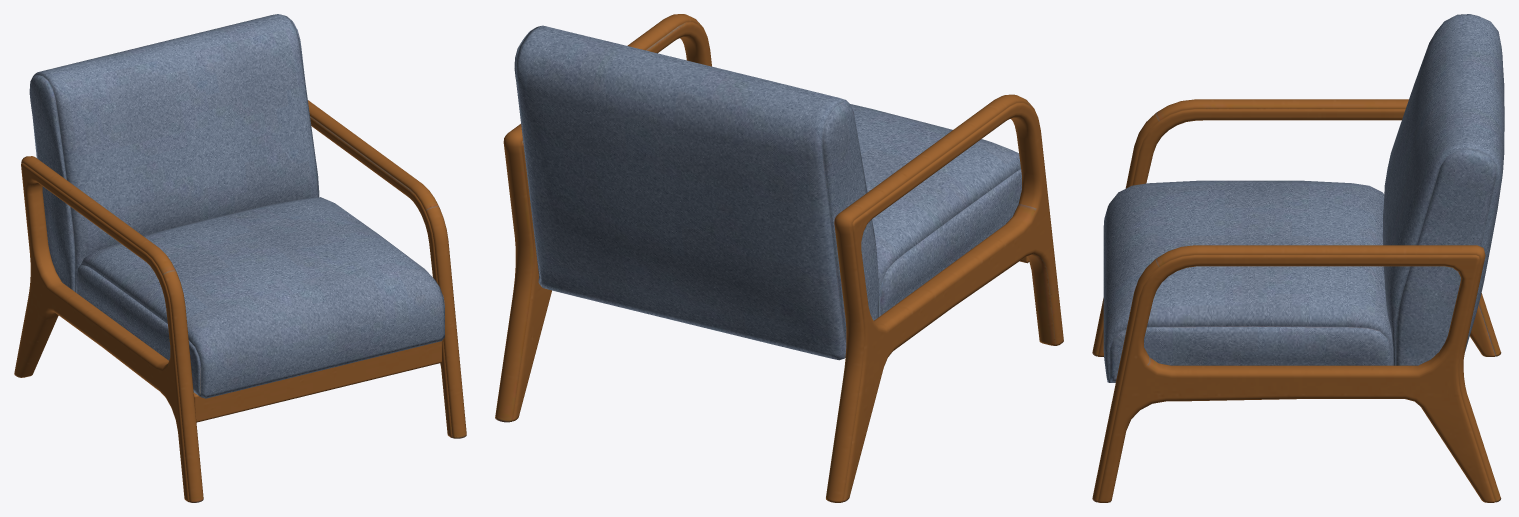
File: arm_chair_t.glb
3 renders of one model, left to right at view 1: azimuth 30°, elevation 25°; view 2: azimuth 150°, elevation 25°; view 3: azimuth 270°, elevation 25°, orthographic. The views are drawn at different scales.
Visible parts, largest first — view 1: arm_chair; view 2: arm_chair; view 3: arm_chair.
Part boxes in pixels (x1,y1,x2,y2): arm_chair: (14, 14, 466, 502); arm_chair: (495, 14, 1063, 502); arm_chair: (1092, 14, 1504, 502).
Size of the model in its own units: 0.8241 by 0.8612 by 0.9296.
Materials: 1 (1 with a texture image).
